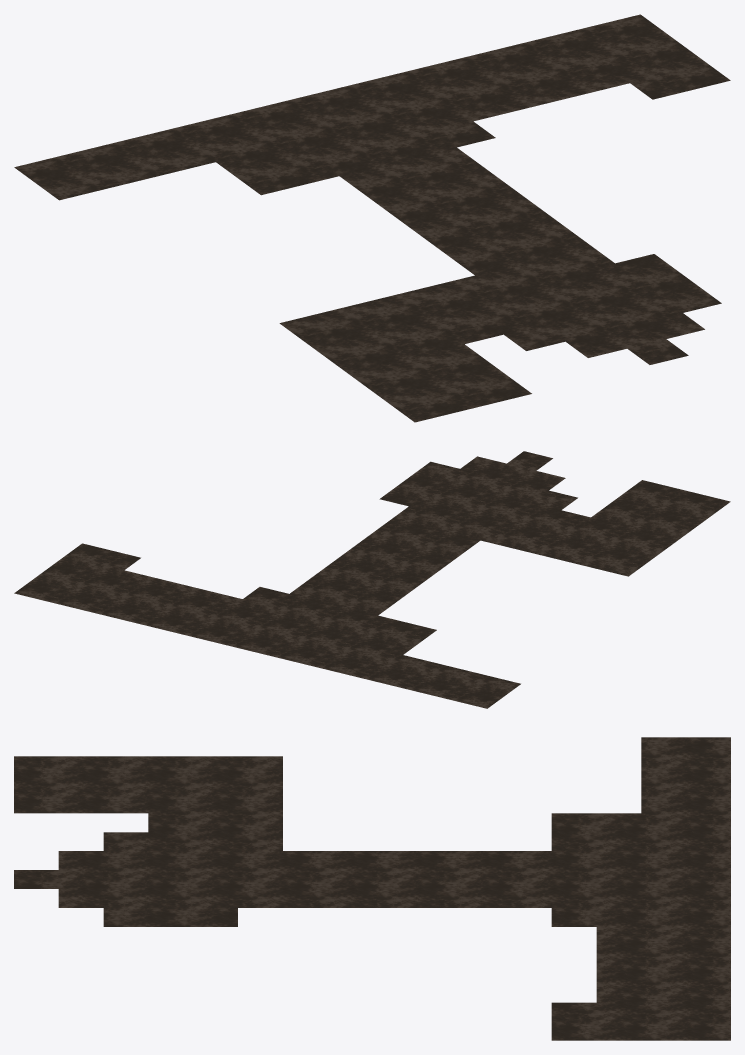
Rendered from floor_0_-4.glb.
3 views of the same model, one above another, from view 1: azimuth 30°, elevation 25°; view 2: azimuth 150°, elevation 25°; view 3: azimuth 270°, elevation 25° (orthographic). The views are drawn at different scales.
Parts seen in each view (by area): view 1: floor_0_-4; view 2: floor_0_-4; view 3: floor_0_-4.
Boxes of the visible parts, x1,y1,x2,y2 form: floor_0_-4: (14,14,730,422); floor_0_-4: (14,451,730,708); floor_0_-4: (14,737,730,1040).
Size of the model in its own units: 64 by 0 by 64.
1 material, 1 textured.
